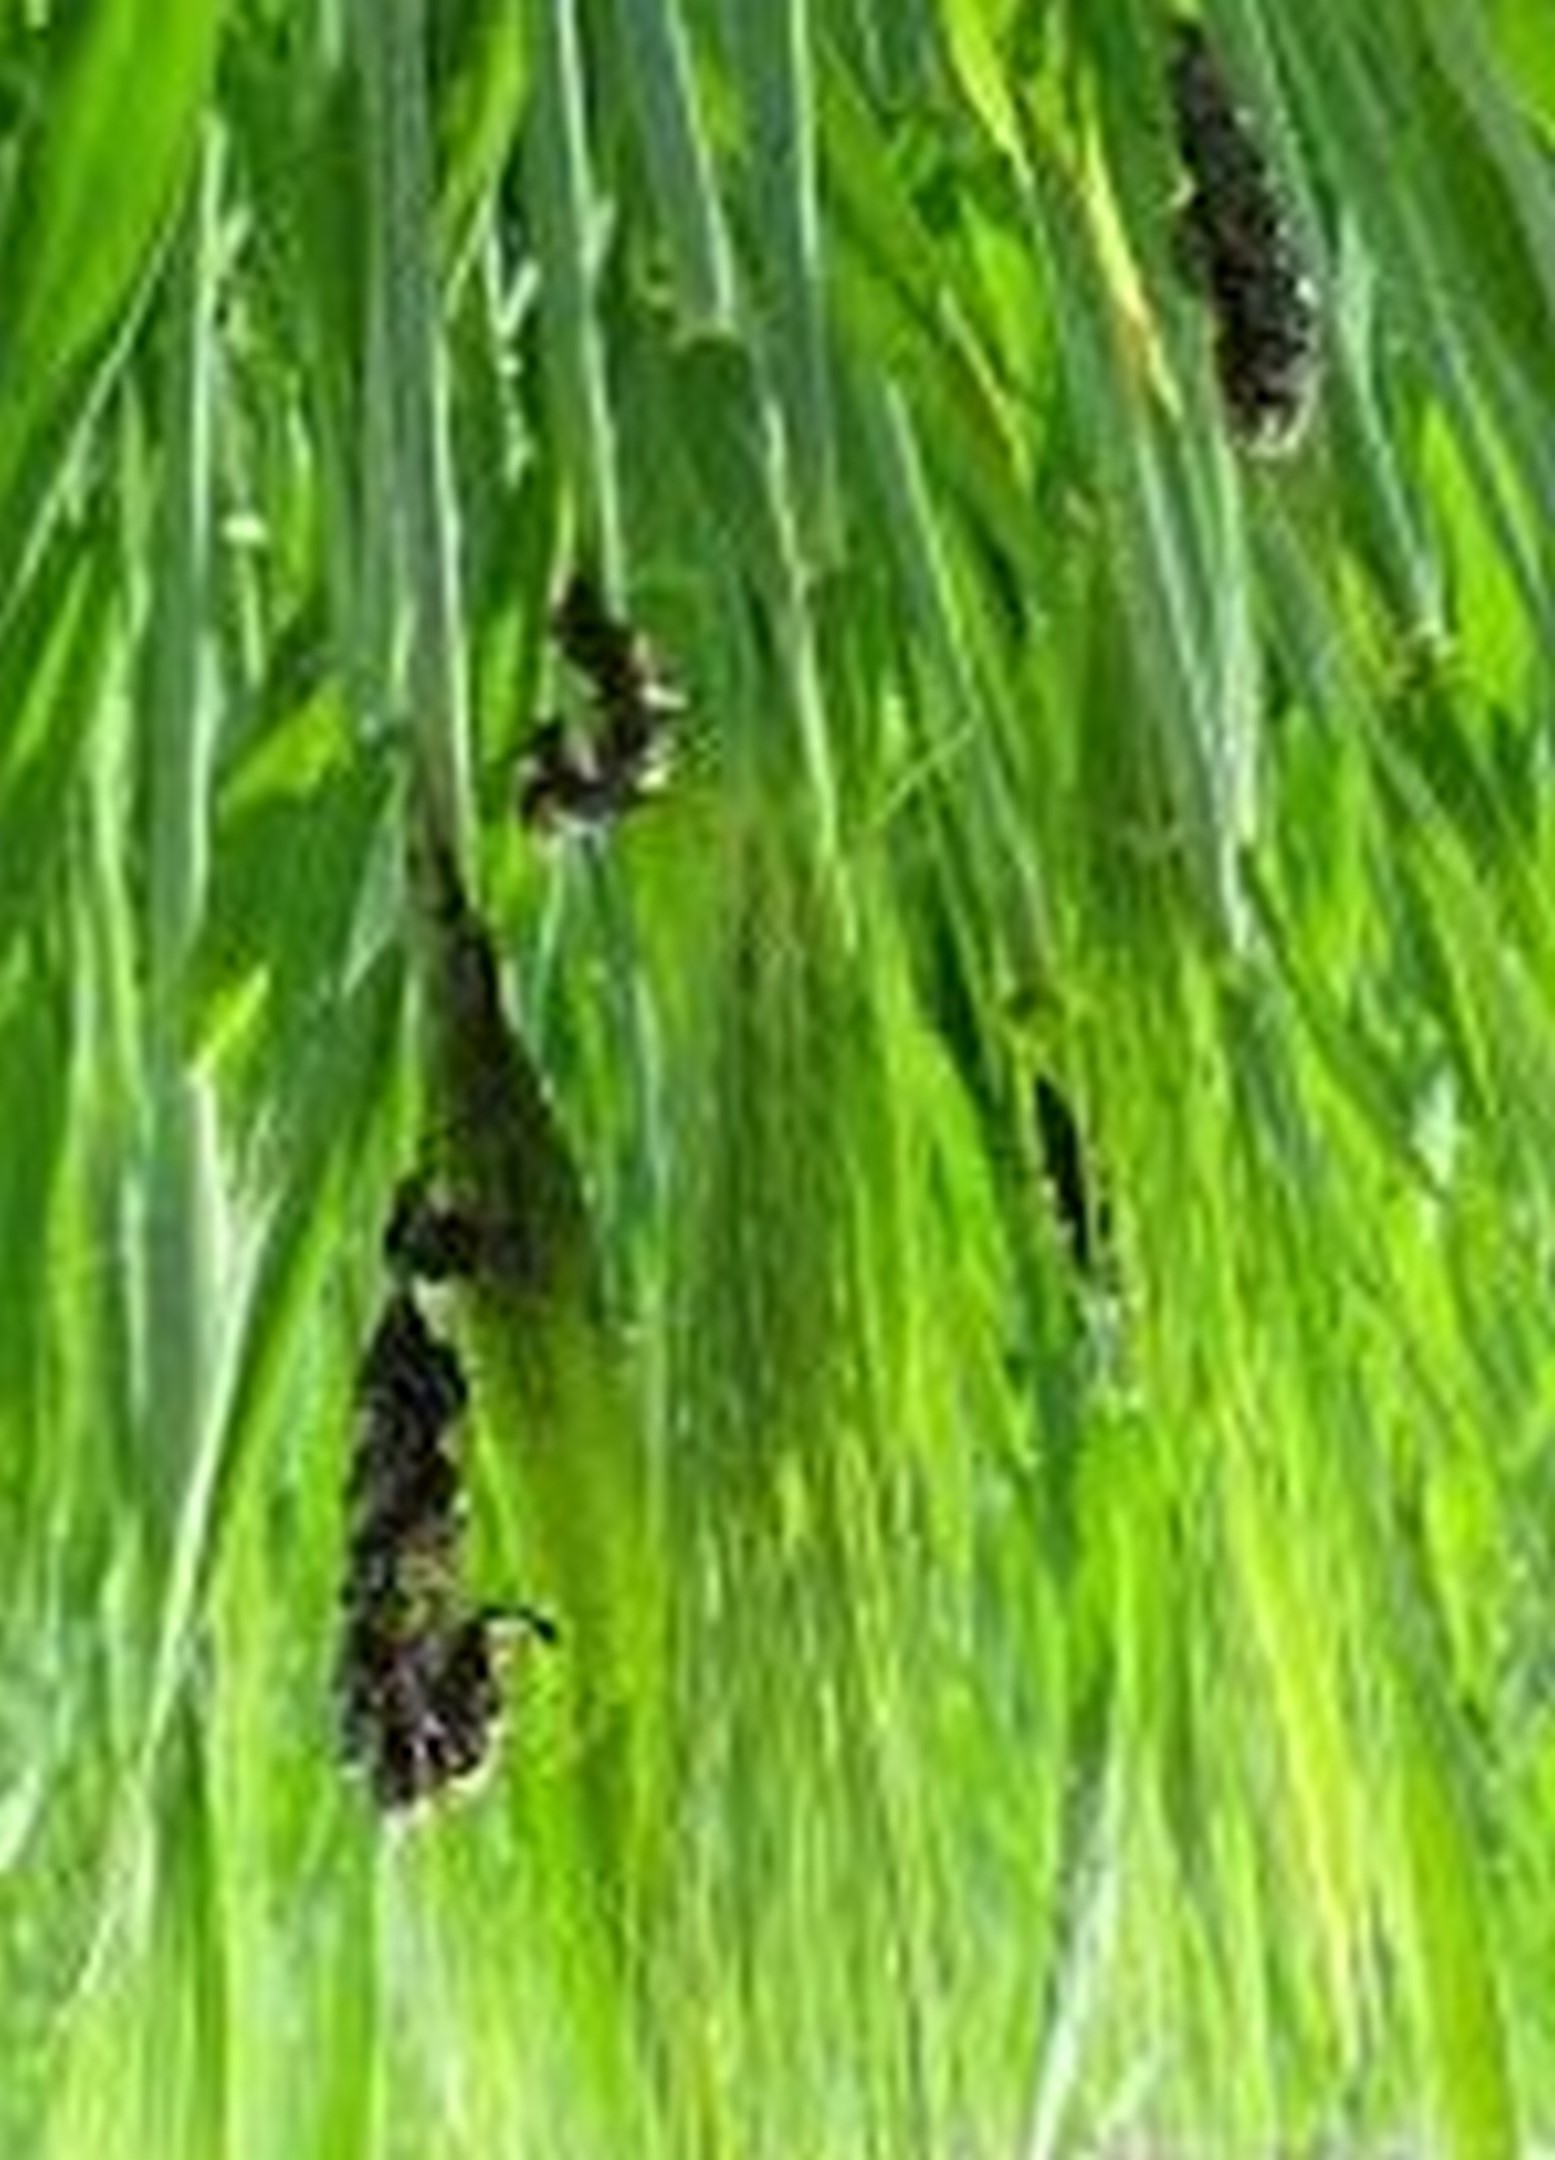Wheat Loose Smut: (315, 1196, 564, 1830), (1151, 18, 1386, 481)
